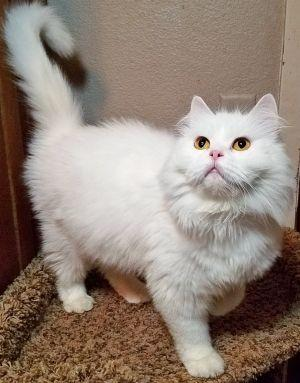persian: (156, 82, 292, 216)
